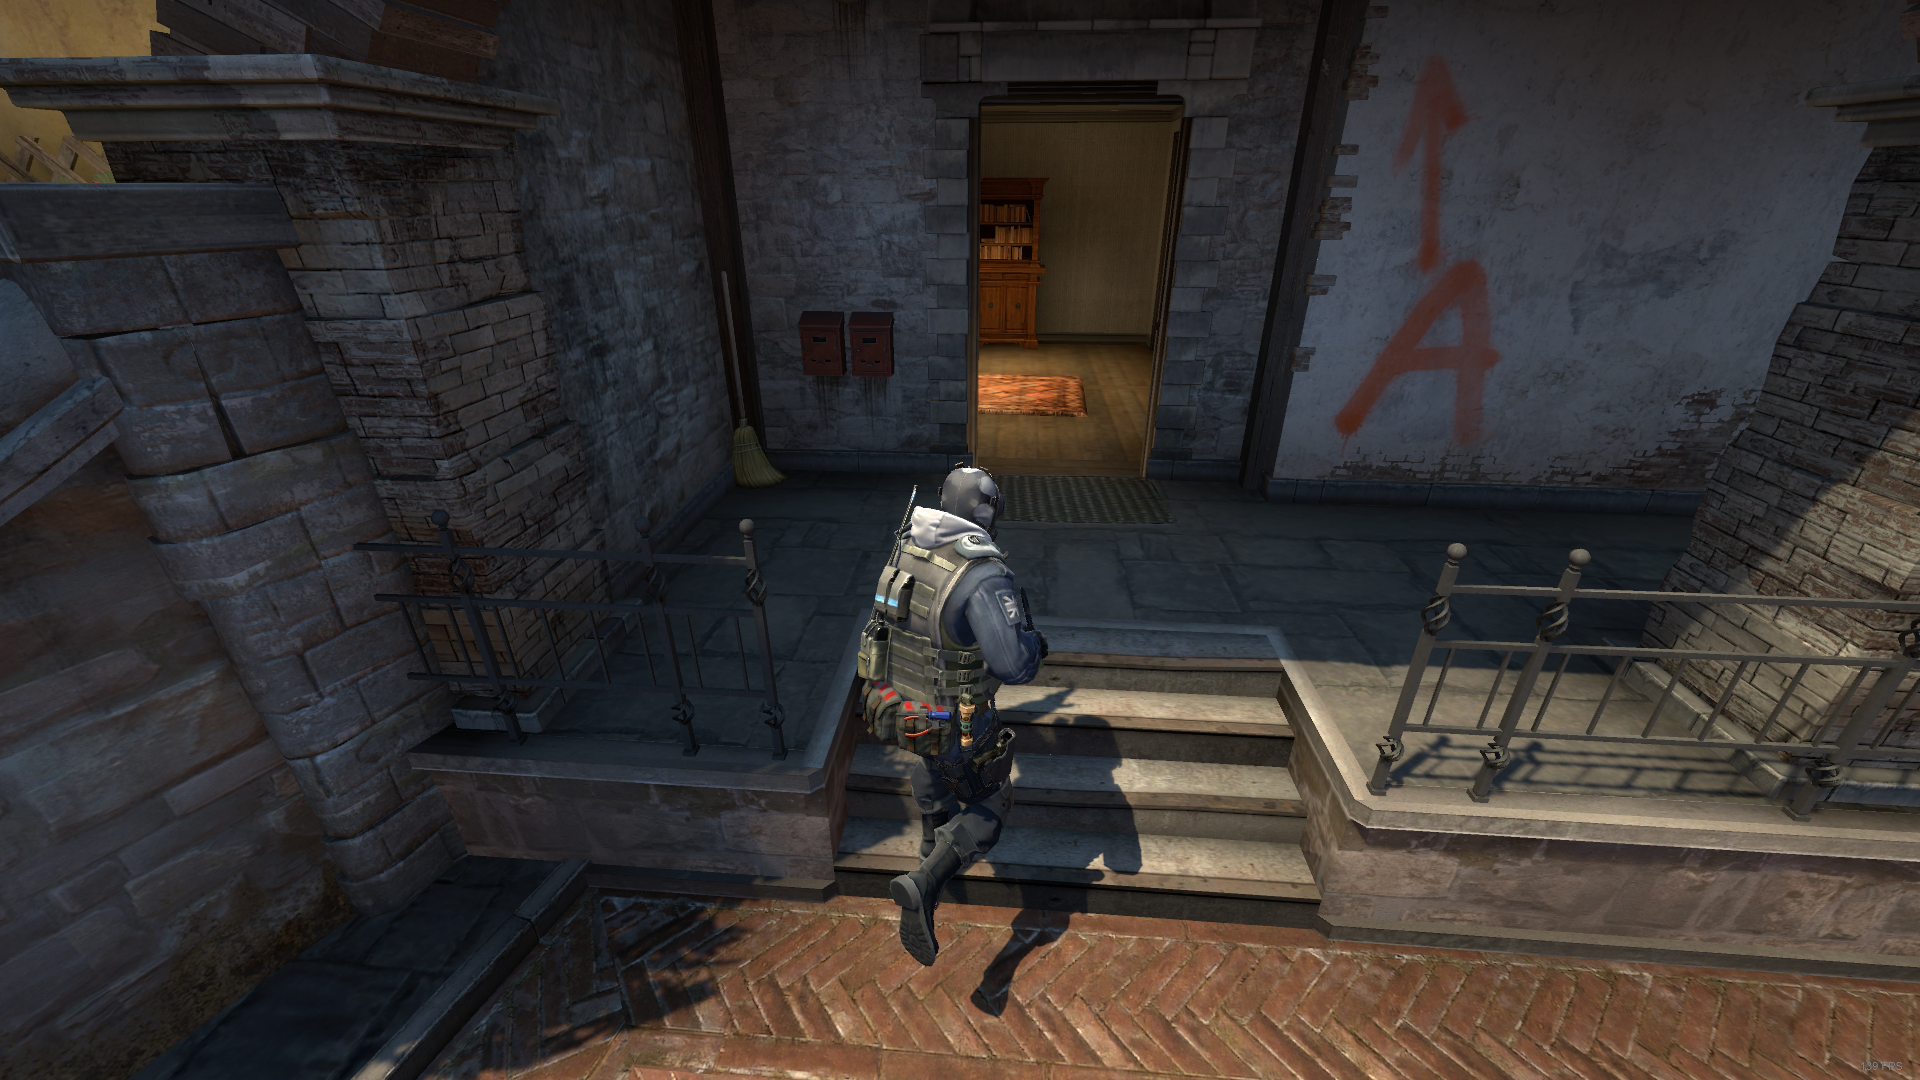ct: (855, 464, 1048, 963)
